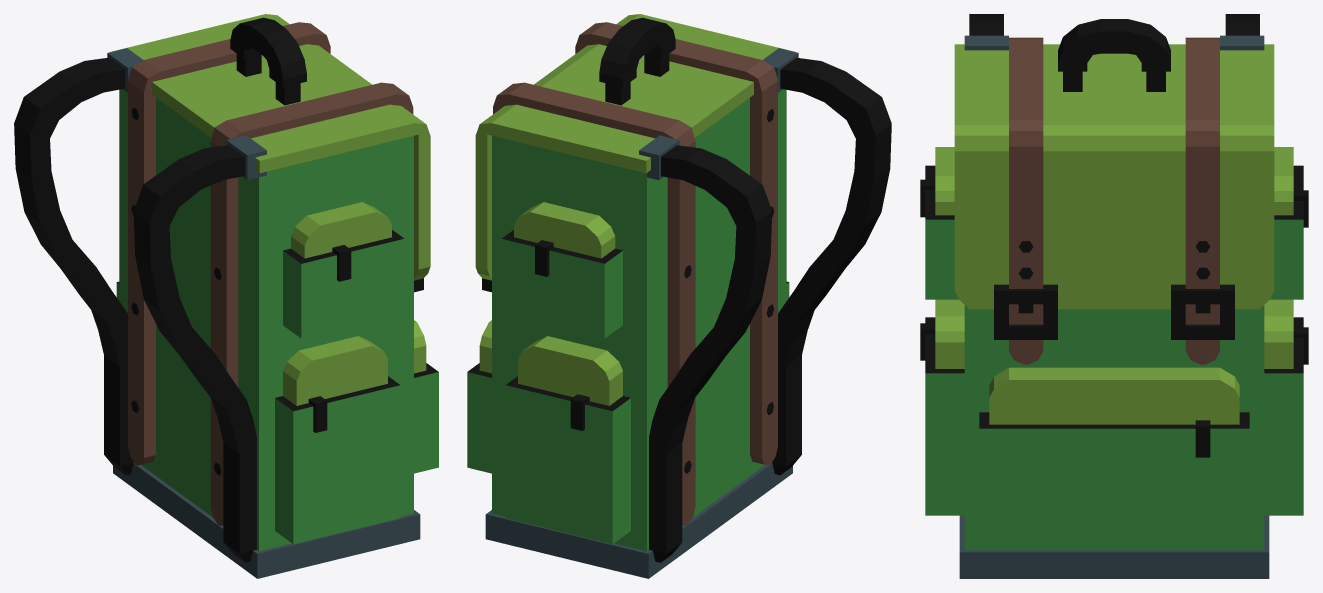
3 renders of one model, left to right at view 1: azimuth 30°, elevation 25°; view 2: azimuth 150°, elevation 25°; view 3: azimuth 270°, elevation 25°, orthographic. The views are drawn at different scales.
Visible parts, largest first — view 1: node_MeshObject-1095274496-PolyPaper20; view 2: node_MeshObject-1095274496-PolyPaper20; view 3: node_MeshObject-1095274496-PolyPaper20.
Boxes of the visible parts, x1=… form: node_MeshObject-1095274496-PolyPaper20: x1=14, y1=14, x2=438, y2=578; node_MeshObject-1095274496-PolyPaper20: x1=467, y1=14, x2=891, y2=578; node_MeshObject-1095274496-PolyPaper20: x1=920, y1=14, x2=1308, y2=578.
Bounding box in the file's own units: 0.75 × 1.15 × 0.79.
